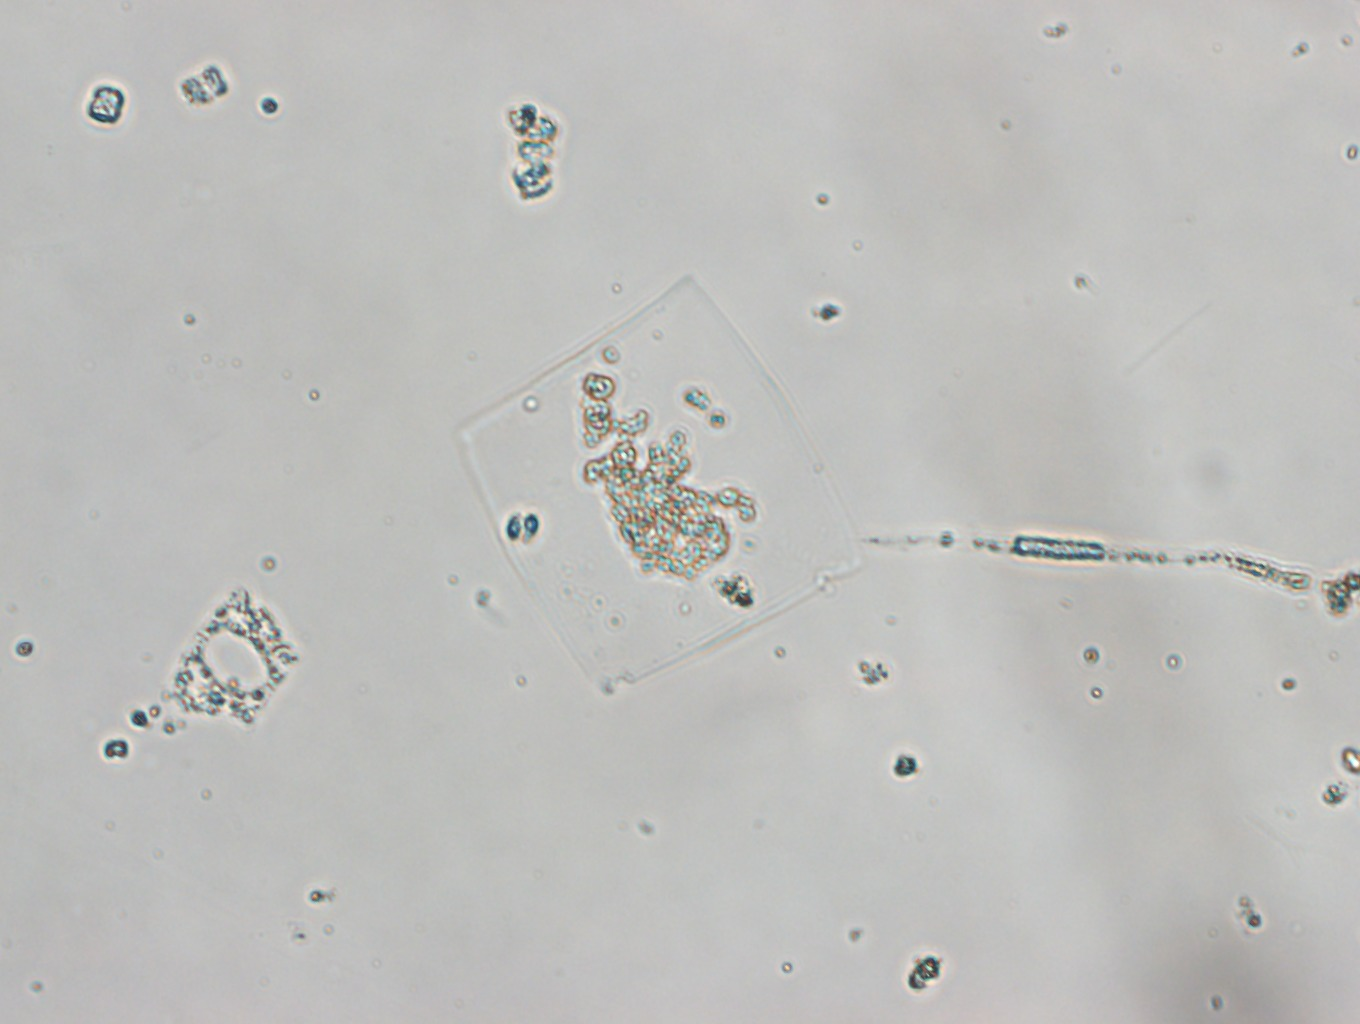eucampia: (163, 583, 300, 729)
helicotheca: (456, 276, 864, 694)
